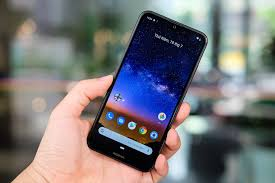nokia: (87, 8, 210, 176)
